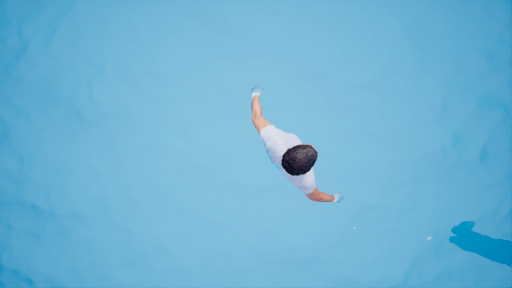person: (243, 83, 352, 216)
